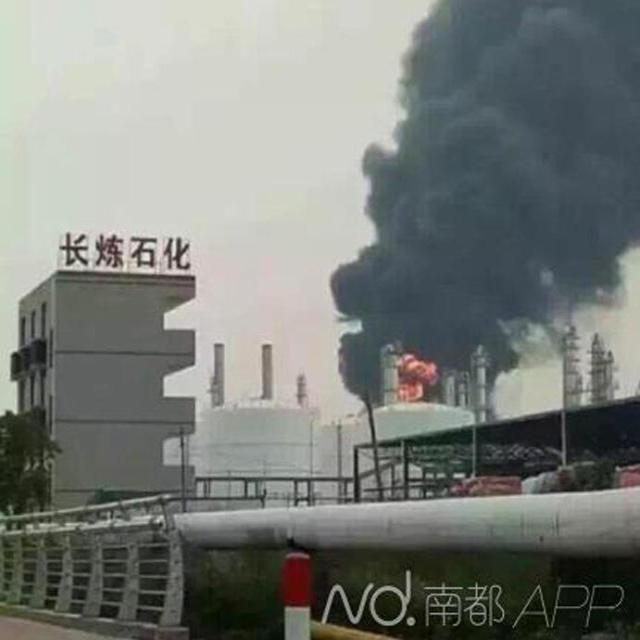fire: (397, 353, 438, 400)
smoke: (320, 0, 639, 395)
